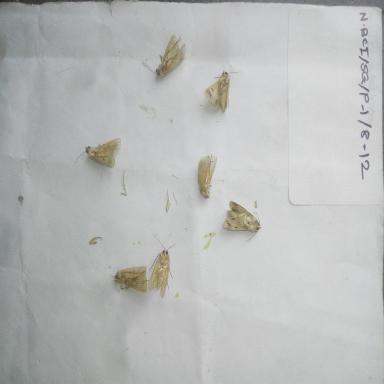abw: (142, 28, 189, 86), (201, 64, 244, 119), (107, 260, 158, 306), (70, 133, 124, 176), (148, 230, 180, 299), (220, 192, 263, 242), (192, 150, 223, 206)
